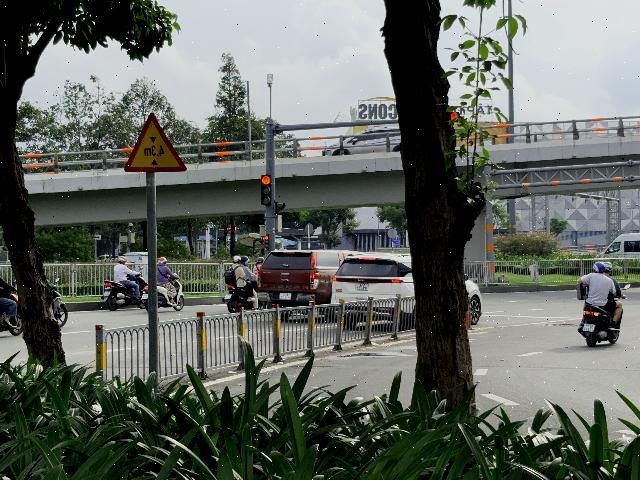chieu-cao-tinh-khong-thuc-te: (124, 113, 188, 172)
